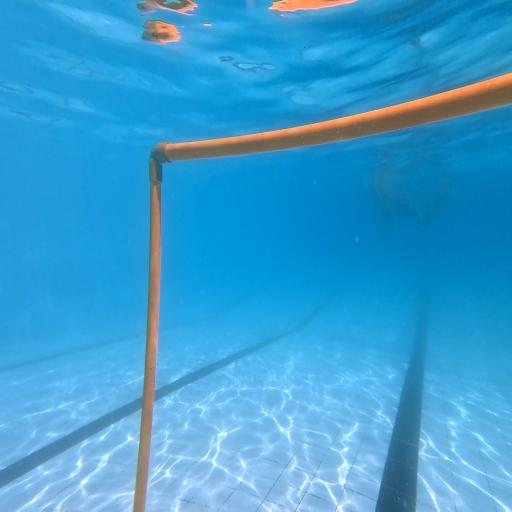gate: (132, 72, 512, 512)
